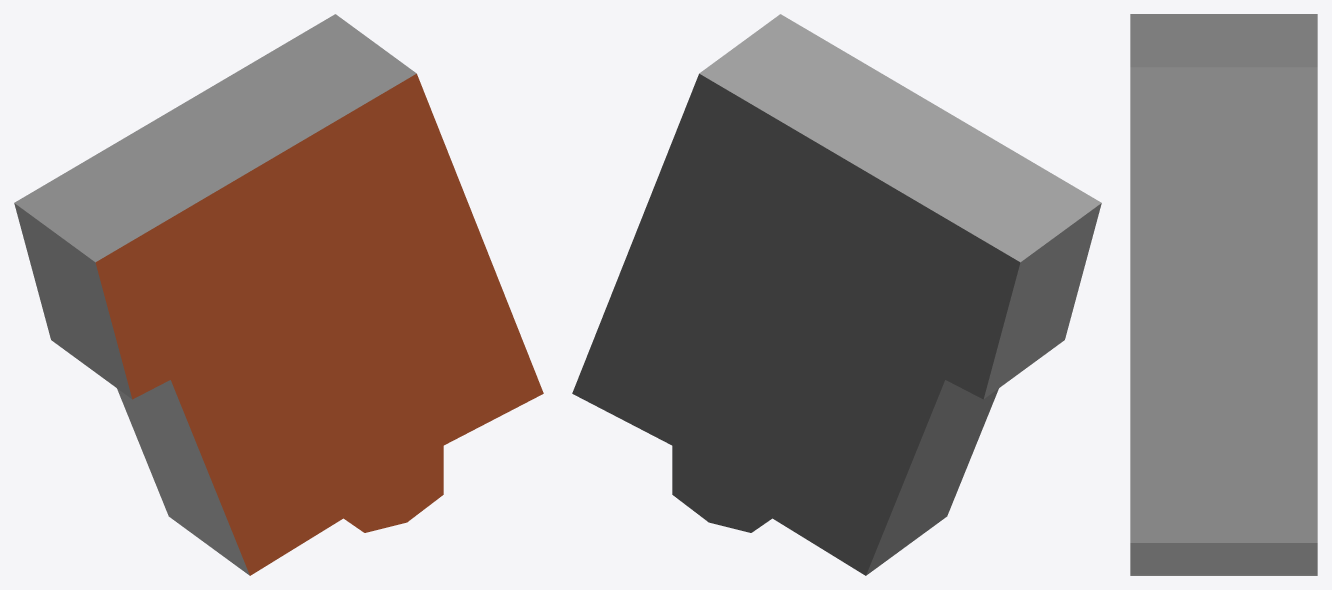
Rendered from construction_5265_assumed_A_Casa_h6m.obj.
3 renders of one model, left to right at view 1: azimuth 30°, elevation 25°; view 2: azimuth 150°, elevation 25°; view 3: azimuth 270°, elevation 25°, orthographic. The views are drawn at different scales.
Visible parts, largest first — view 1: construction_5265_assumed_A_Casa; view 2: construction_5265_assumed_A_Casa; view 3: construction_5265_assumed_A_Casa.
Part boxes in pixels (<box>): construction_5265_assumed_A_Casa: <box>14,14,543,575</box>; construction_5265_assumed_A_Casa: <box>572,14,1101,575</box>; construction_5265_assumed_A_Casa: <box>1130,14,1317,575</box>.
Size of the model in its own units: 19.1 by 18.79 by 6.
